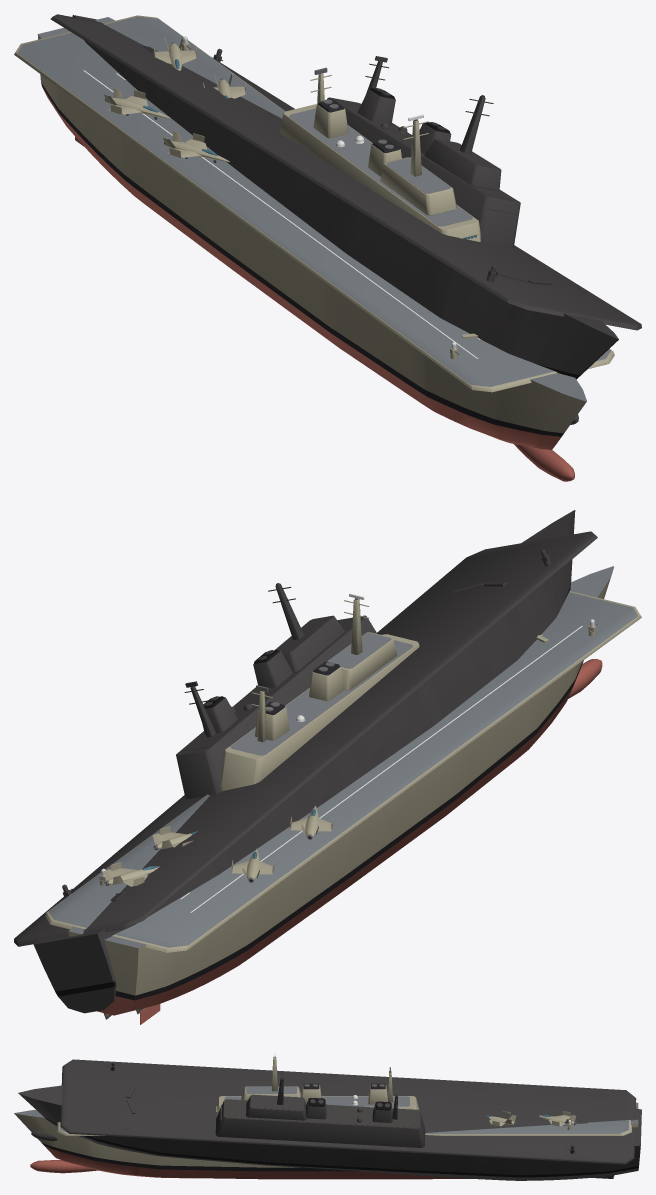
The model's file is carrier__hyuga_class.glb.
3 renders of one model, top to bottom at view 1: azimuth 30°, elevation 25°; view 2: azimuth 150°, elevation 25°; view 3: azimuth 270°, elevation 25°, orthographic. The views are drawn at different scales.
Parts seen in each view (by area): view 1: Hull_Mesh, Wreck, DeckPlane2_Mesh, DeckPlane3_Mesh, DeckPlane0_Mesh; view 2: Hull_Mesh, Wreck, DeckPlane0_Mesh; view 3: Wreck, Hull_Mesh, DeckPlane0_Mesh, DeckPlane1_Mesh.
Part boxes in pixels (x1,y1,x2,y2): Hull_Mesh: (14,15,614,481); Wreck: (50,14,641,424); DeckPlane2_Mesh: (104,88,170,119); DeckPlane3_Mesh: (163,131,229,162); DeckPlane0_Mesh: (154,37,196,70); Hull_Mesh: (45,566,641,1024); Wreck: (14,510,597,1019); DeckPlane0_Mesh: (103,862,159,886); Wreck: (18,1059,641,1180); Hull_Mesh: (14,1057,638,1179); DeckPlane0_Mesh: (539,1111,576,1126); DeckPlane1_Mesh: (486,1111,516,1126).
Size of what is drawn, in the model's own units: 45.9 by 47.82 by 207.
